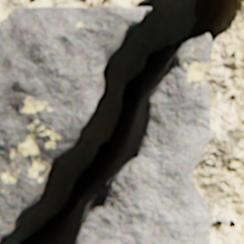broken_brick: (0, 4, 149, 240), (72, 34, 211, 243)
crack: (0, 0, 243, 243)
